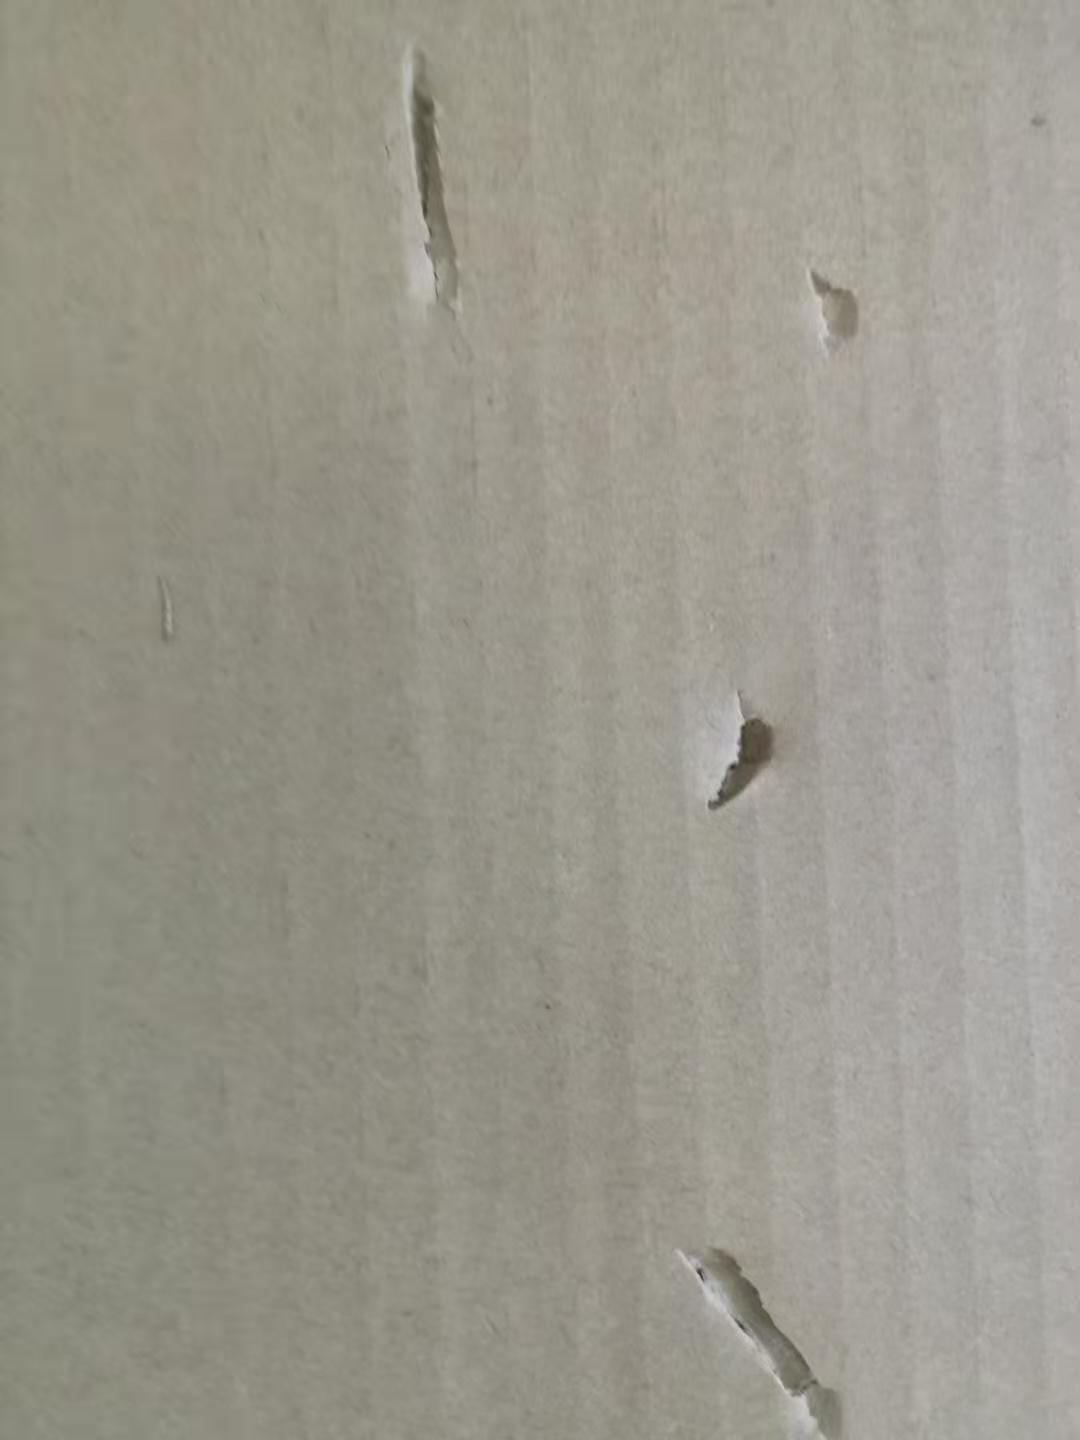defect: (646, 1205, 905, 1435), (345, 25, 508, 344), (655, 661, 826, 835), (763, 228, 900, 382), (126, 553, 208, 662)
